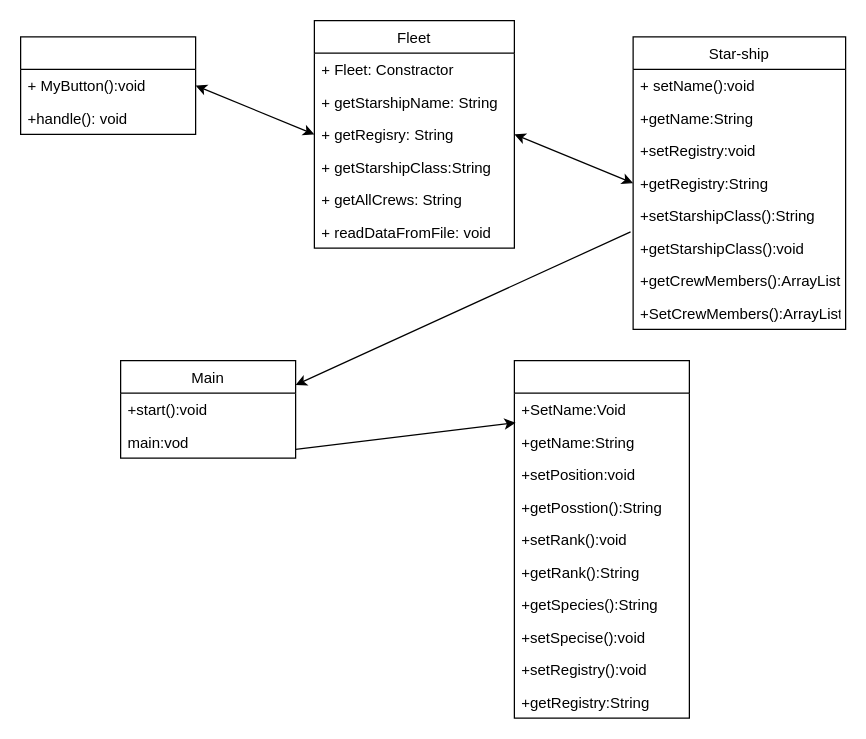
This 866x739 diagram has some shape labels left out. The box of each missing label's shape, as (x1, y1, x2, y2) in pixels:
CrewMemeber: (513, 359, 689, 718)
MainController: (19, 36, 196, 134)
